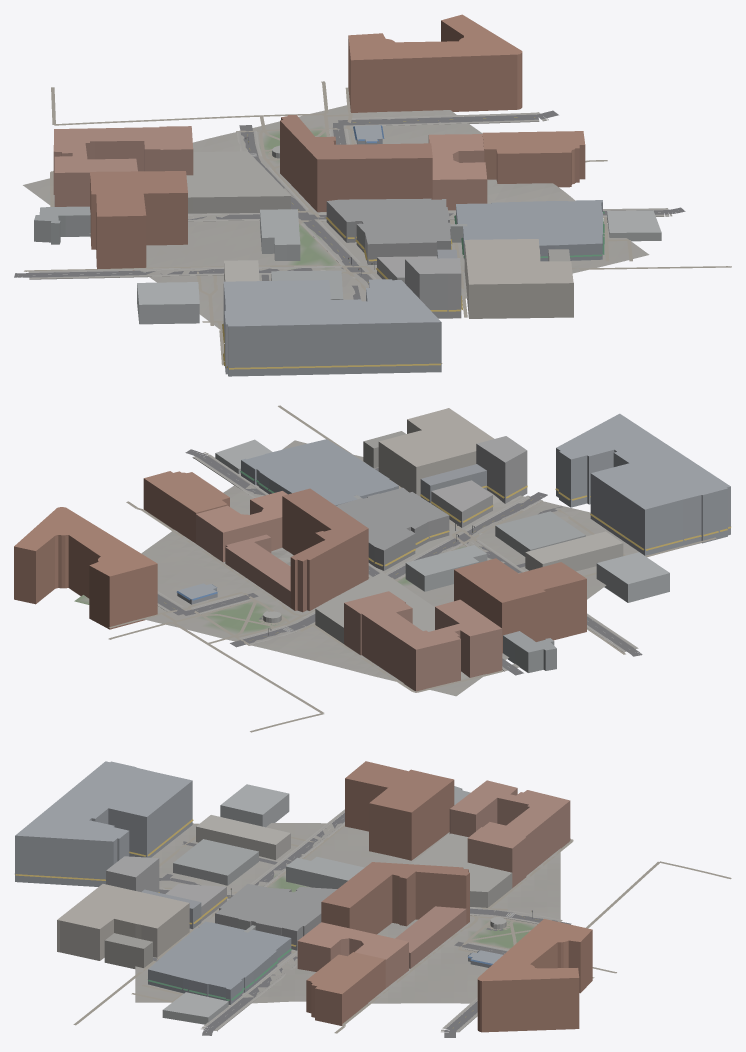
Rendered from tile_-1_2.glb.
The picture shows the model from 3 angles, top to bottom: view 1: azimuth 30°, elevation 25°; view 2: azimuth 150°, elevation 25°; view 3: azimuth 270°, elevation 25°; orthographic projection. The views are drawn at different scales.
Visible parts, largest first — view 1: buildings, terrain, roads, paths, sidewalks, awnings; view 2: buildings, terrain, paths, roads, sidewalks, awnings; view 3: buildings, terrain, paths, roads, sidewalks, awnings.
Part boxes in pixels (x1,y1,x2,y2): buildings: (34, 14, 661, 376); terrain: (23, 105, 649, 329); roads: (14, 110, 685, 299); paths: (24, 81, 731, 365); sidewalks: (28, 112, 672, 287); awnings: (222, 125, 604, 369); buildings: (14, 408, 730, 692); terrain: (74, 440, 649, 696); paths: (108, 405, 716, 732); roads: (157, 449, 642, 675); sidewalks: (157, 452, 638, 671); awnings: (176, 470, 730, 600); buildings: (15, 761, 592, 1032); terrain: (135, 823, 560, 1003); paths: (73, 823, 731, 1033); roads: (153, 813, 571, 1037); sidewalks: (159, 809, 560, 1032); awnings: (15, 819, 492, 1000).
Size of the model in its own units: 370 by 35 by 432.
